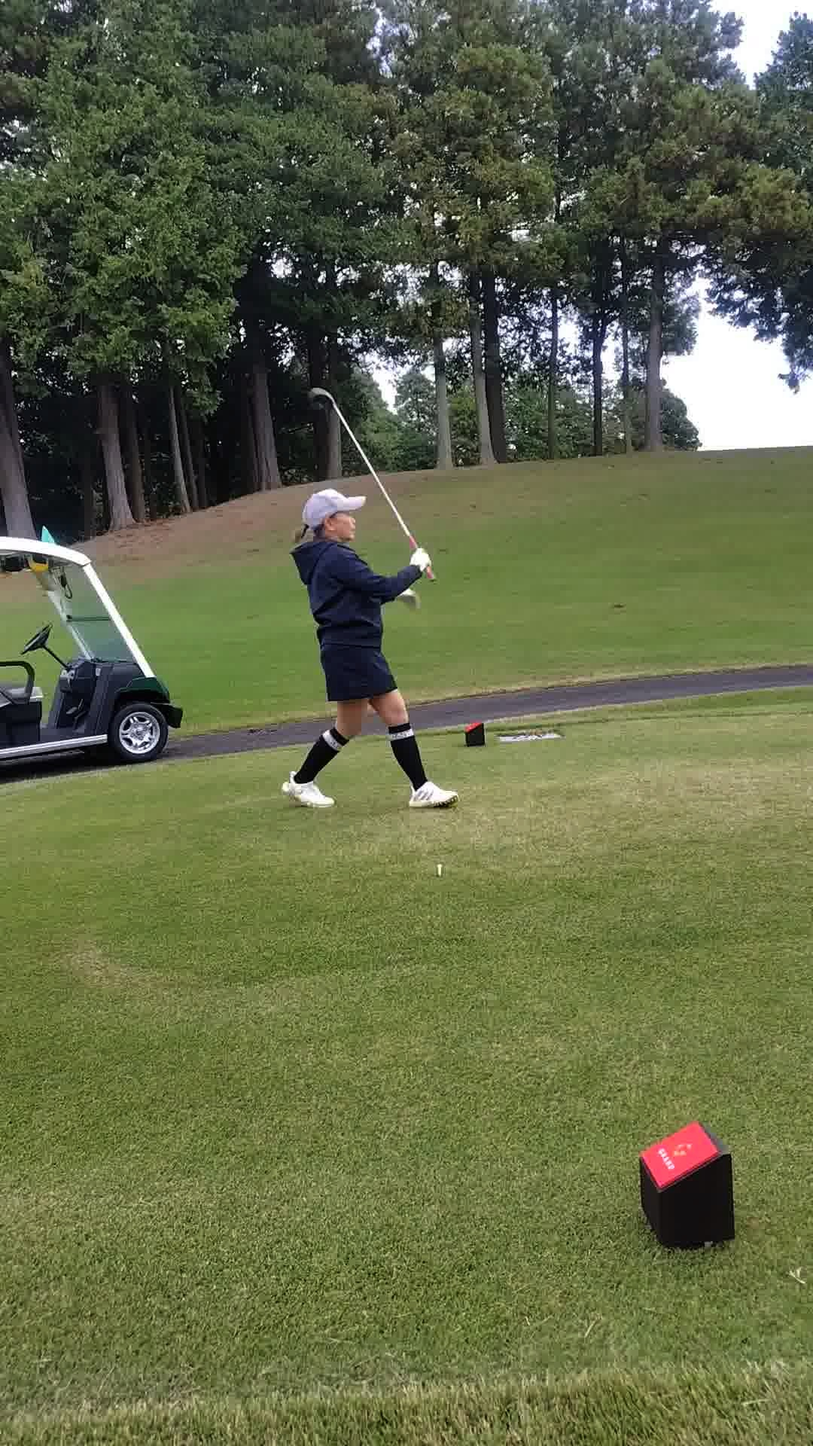clubhead: (259, 358, 397, 469)
